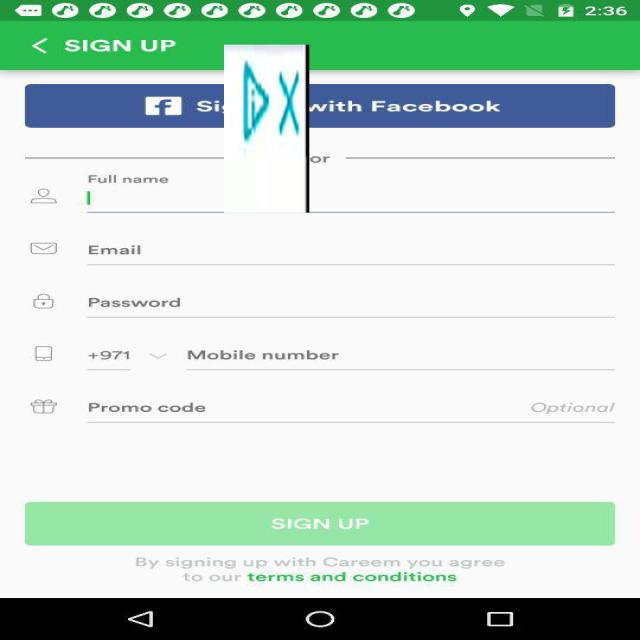sneaking: (224, 44, 309, 212)
